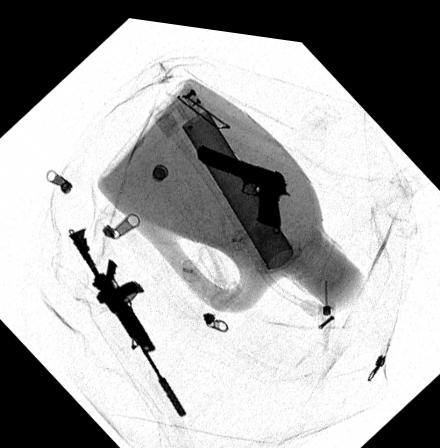Gun: (66, 223, 188, 411), (196, 136, 293, 224)
